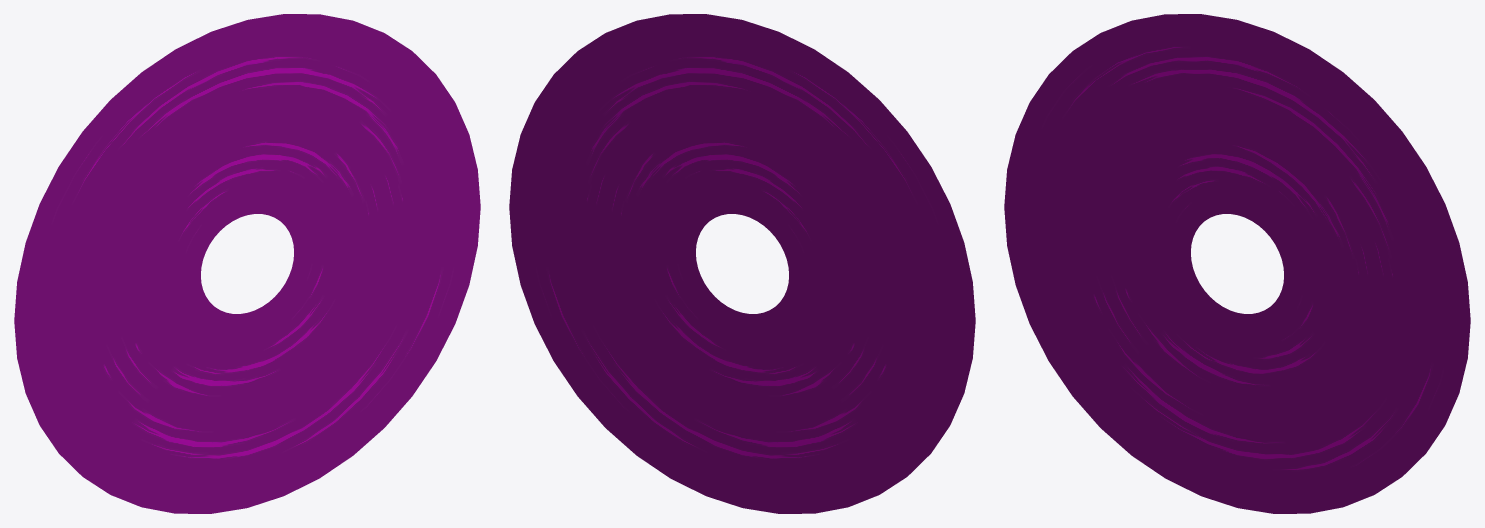
The model's file is Floor.fbx.
3 views of the same model, side by side, from view 1: azimuth 30°, elevation 25°; view 2: azimuth 150°, elevation 25°; view 3: azimuth 330°, elevation 25° (orthographic).
Visible parts, largest first — view 1: eff_6001_00 #1808328; view 2: eff_6001_00 #1808328; view 3: eff_6001_00 #1808328.
Part boxes in pixels (left/top/right/bottom): eff_6001_00 #1808328: left=14, top=14, right=480, bottom=513; eff_6001_00 #1808328: left=509, top=14, right=975, bottom=513; eff_6001_00 #1808328: left=1004, top=14, right=1470, bottom=513.
Size of the model in its own units: 60 by 60 by 9.78e-06.
